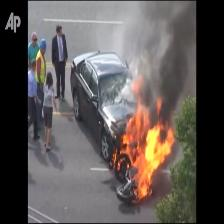fire: (126, 127, 167, 198)
smoke: (142, 13, 187, 116)
